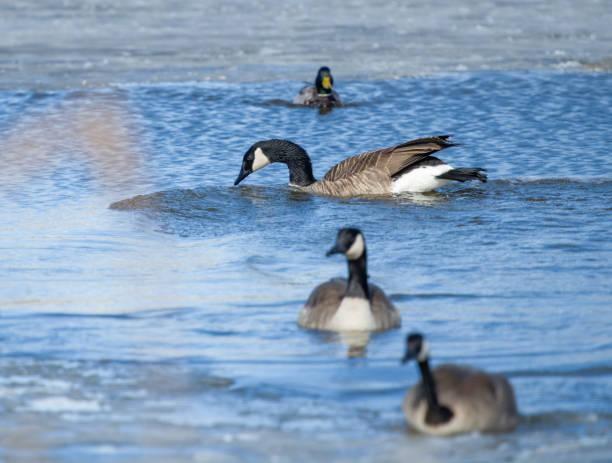Canadian-Goose: (233, 133, 484, 192), (401, 331, 519, 432), (302, 227, 404, 333)
